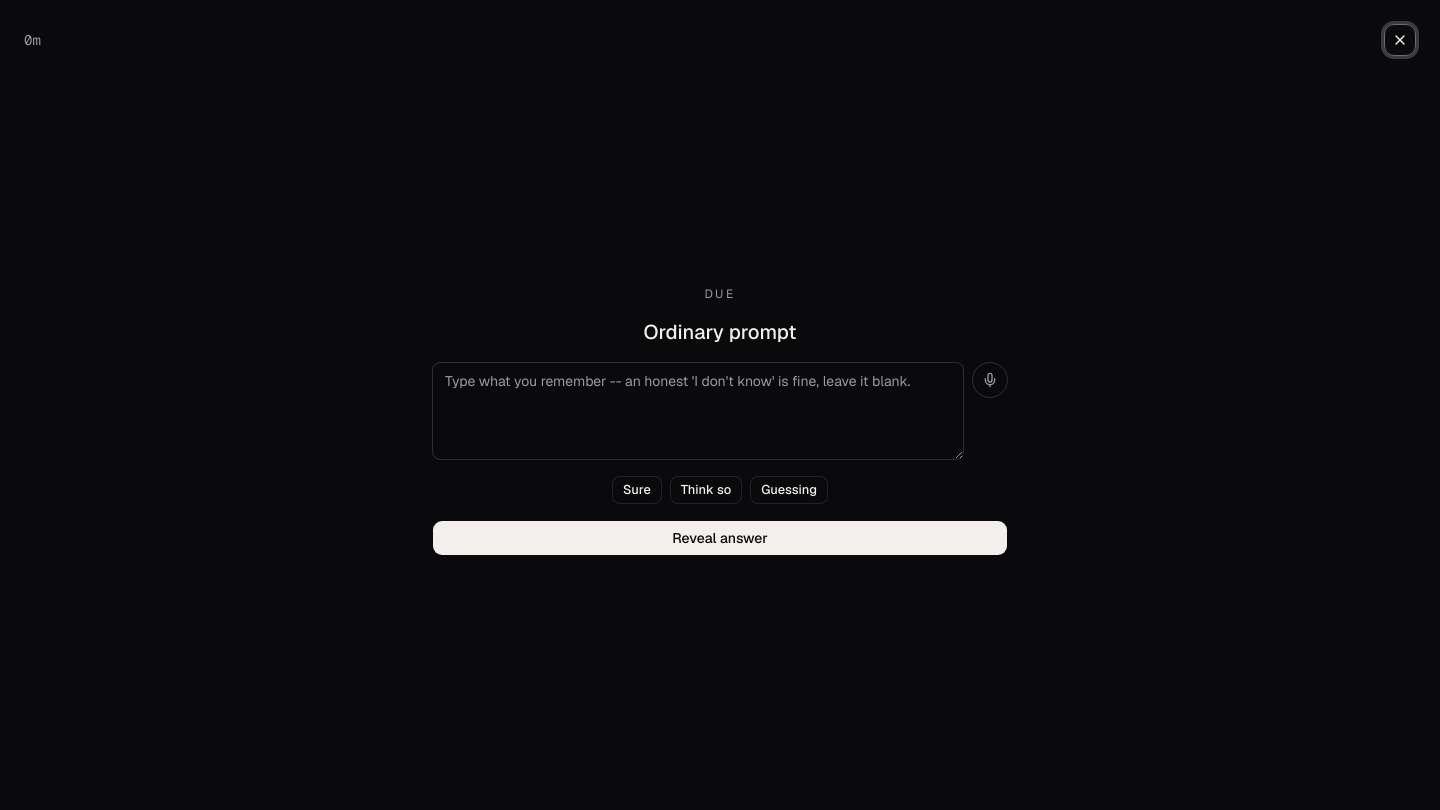
Test case: RetrievalSessionOverlay › P2-15: an ordinary card never requests a closer day-connection, even after reveal
Expected: the text "Ordinary prompt" is shown, [644,319,796,345]
What coordinates should you click on to do the following:
click the button "Reveal answer"
I would click on:
 (720, 538)
Its box is [432,520,1008,556].
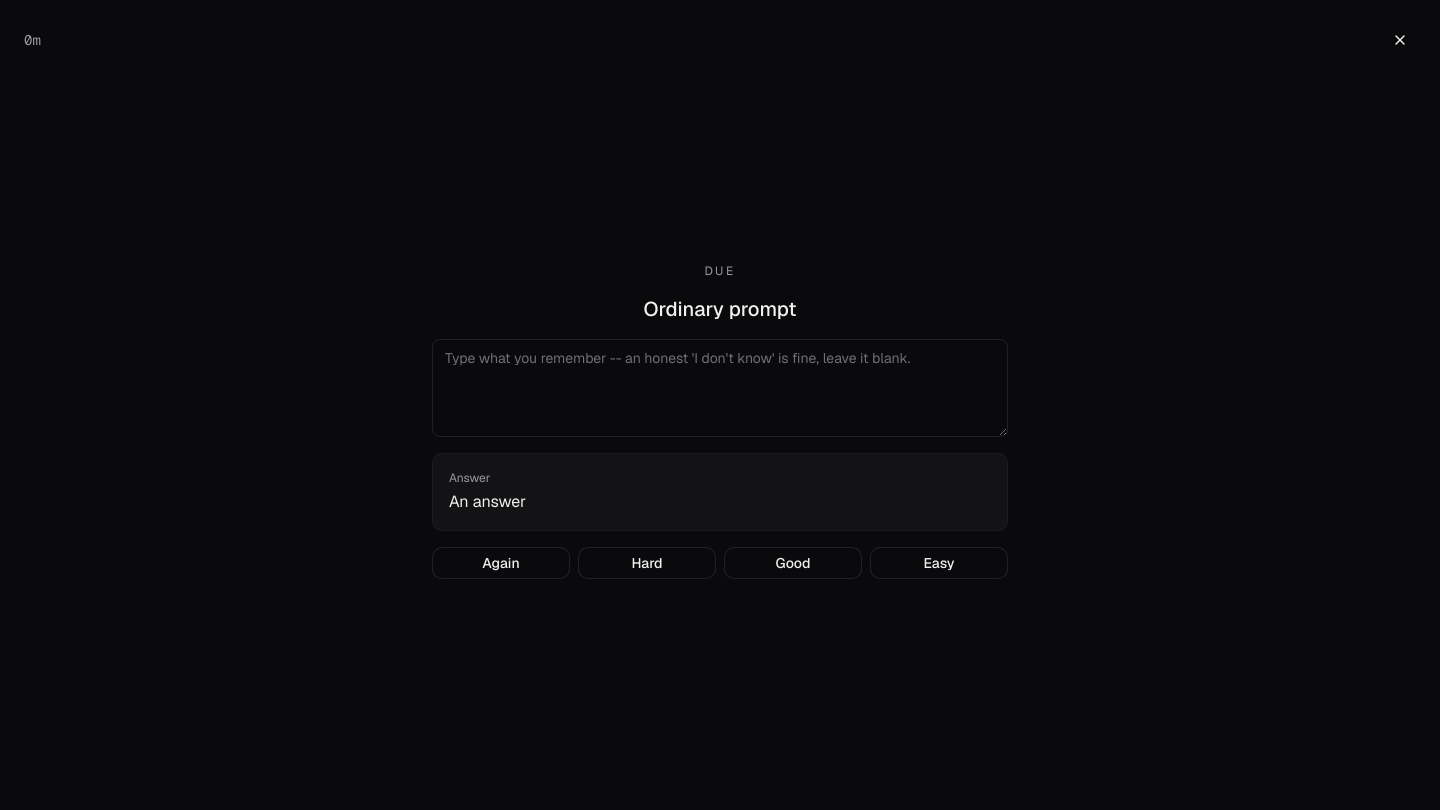
Now the text "An answer" is shown, box [449,491,526,512]
